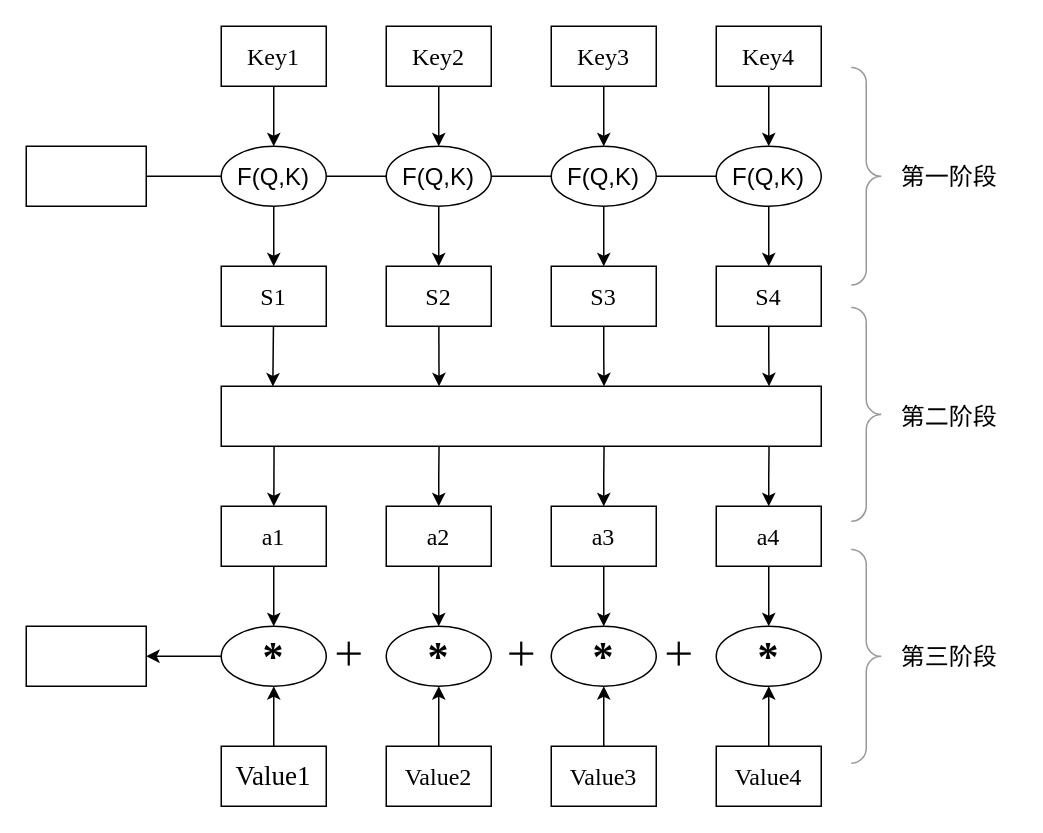
Some shapes in this 1043 by 833 pixel diagram are drawn without their labels. Here are the shapes that lost their labels. From the top down, the centre of each, then its label:
At point (85, 175): "Query".
At point (520, 415): "类Softmax()归一化".
At point (85, 655): "Attention Value".
